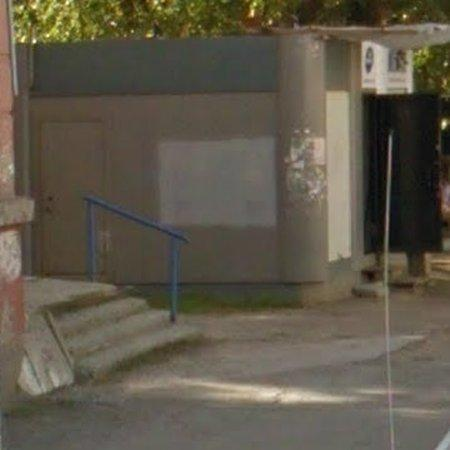stairs: (21, 279, 199, 395)
